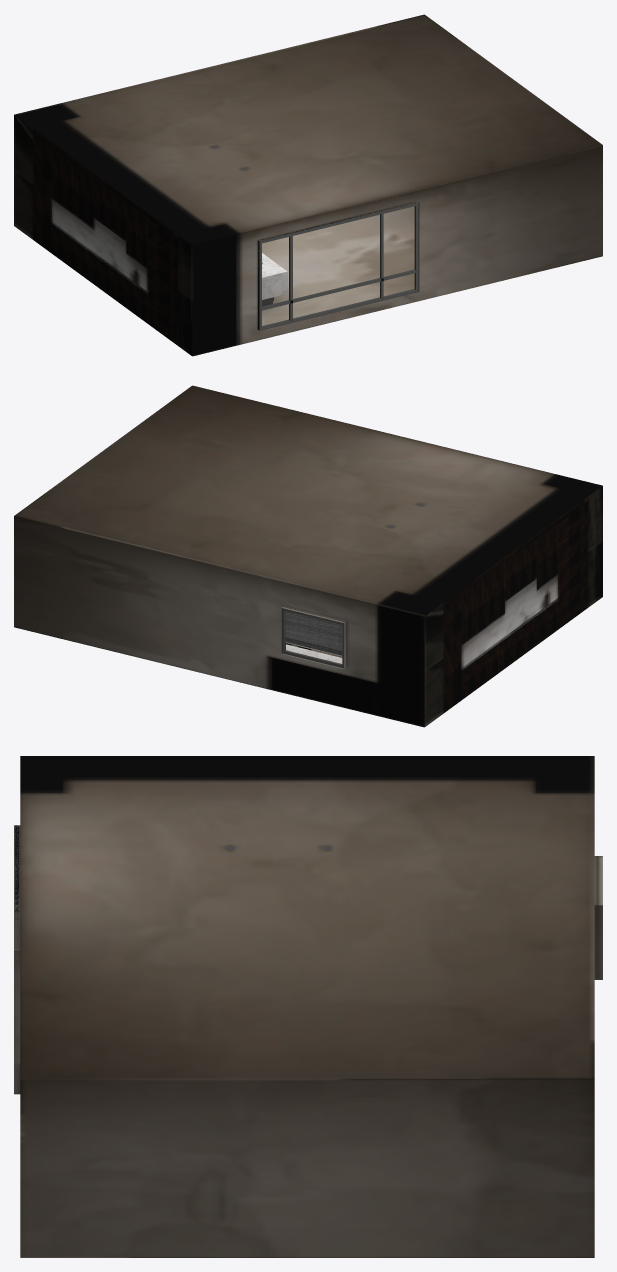
File: modern_scandinavian_kitchen_island.obj
3 renders of one model, top to bottom at view 1: azimuth 30°, elevation 25°; view 2: azimuth 150°, elevation 25°; view 3: azimuth 270°, elevation 25°, orthographic. The views are drawn at different scales.
Parts seen in each view (by area): view 1: house_house1_0, house_house2_0, wood_wood_0, frame_frame_0, table_table_0; view 2: house_house1_0, house_house2_0, wood_wood_0, curtain_curtain2_0, frame_frame_0, table_table_0; view 3: house_house1_0.
Boxes of the visible parts, left/top/right/bottom form: house_house1_0: left=14, top=14, right=602, bottom=356; house_house2_0: left=16, top=117, right=192, bottom=355; wood_wood_0: left=33, top=129, right=177, bottom=344; frame_frame_0: left=258, top=203, right=418, bottom=330; table_table_0: left=58, top=227, right=287, bottom=299; house_house1_0: left=14, top=385, right=602, bottom=727; house_house2_0: left=424, top=486, right=602, bottom=725; wood_wood_0: left=444, top=497, right=588, bottom=712; curtain_curtain2_0: left=285, top=611, right=342, bottom=656; frame_frame_0: left=282, top=608, right=344, bottom=668; table_table_0: left=286, top=599, right=557, bottom=669; house_house1_0: left=14, top=756, right=602, bottom=1257.
Size of the model in its own units: 11.59 by 3 by 8.94.
